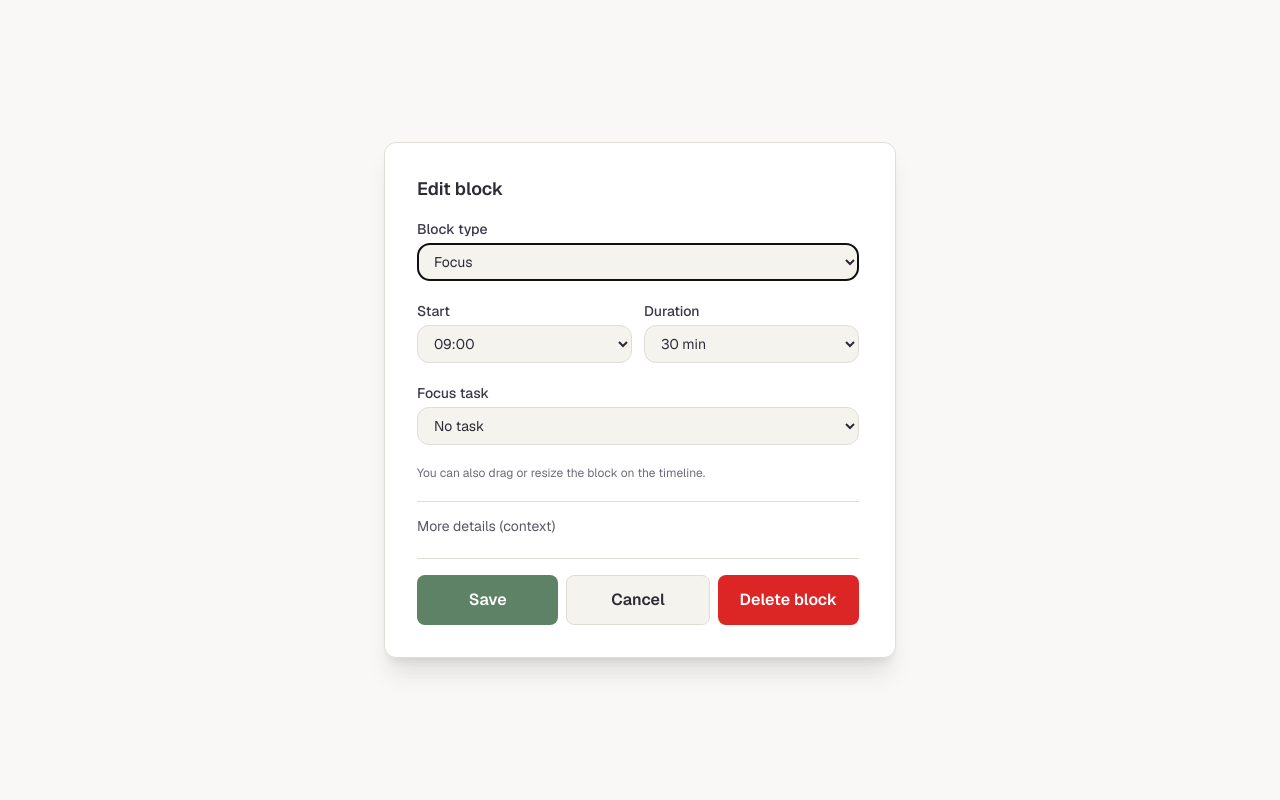
Test case: ScheduleBlockEditPanel › creates and selects a reusable custom context
Click the button with test id "schedule-edit-more-toggle": (486, 526) [417,516,555,536]
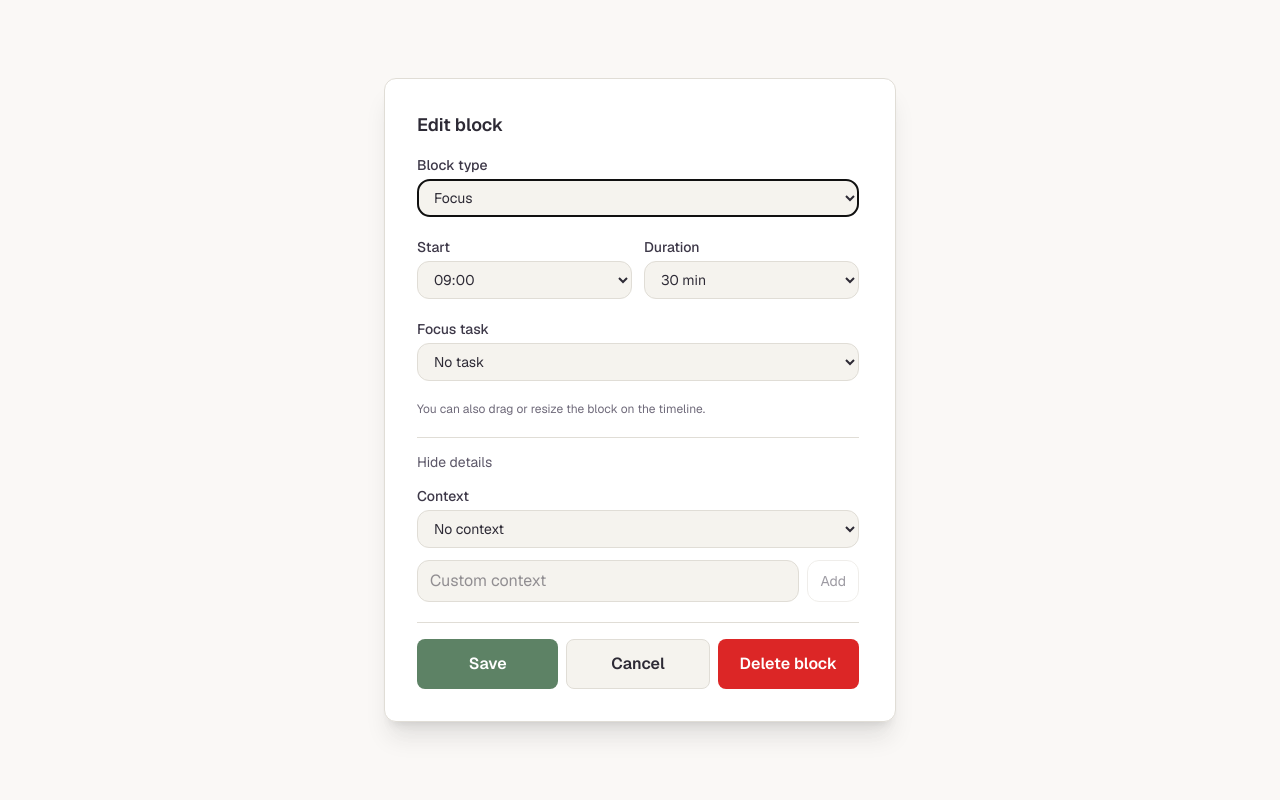
In the field with test id "schedule-new-context-tag": (608, 581) [417,560,799,602], type "Home"
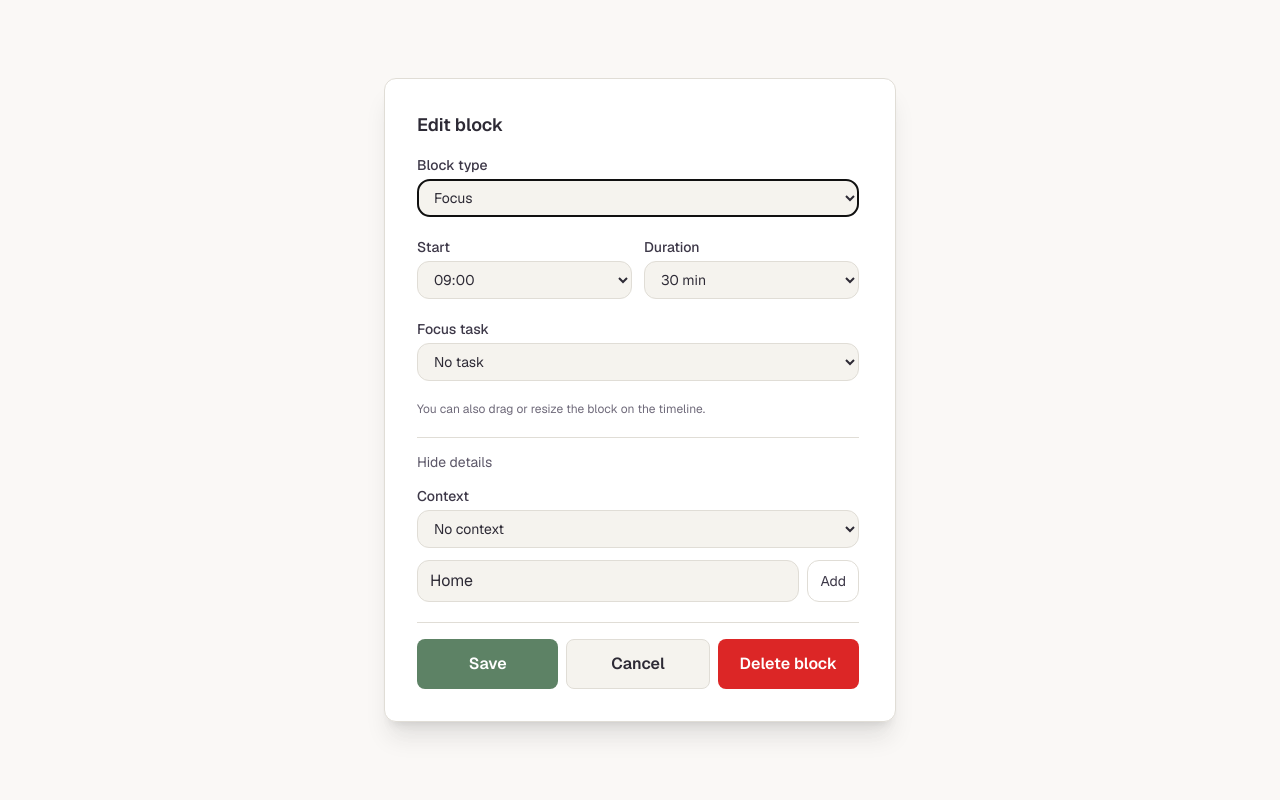
Click the button with test id "schedule-create-context-tag": (833, 581) [807,560,859,602]
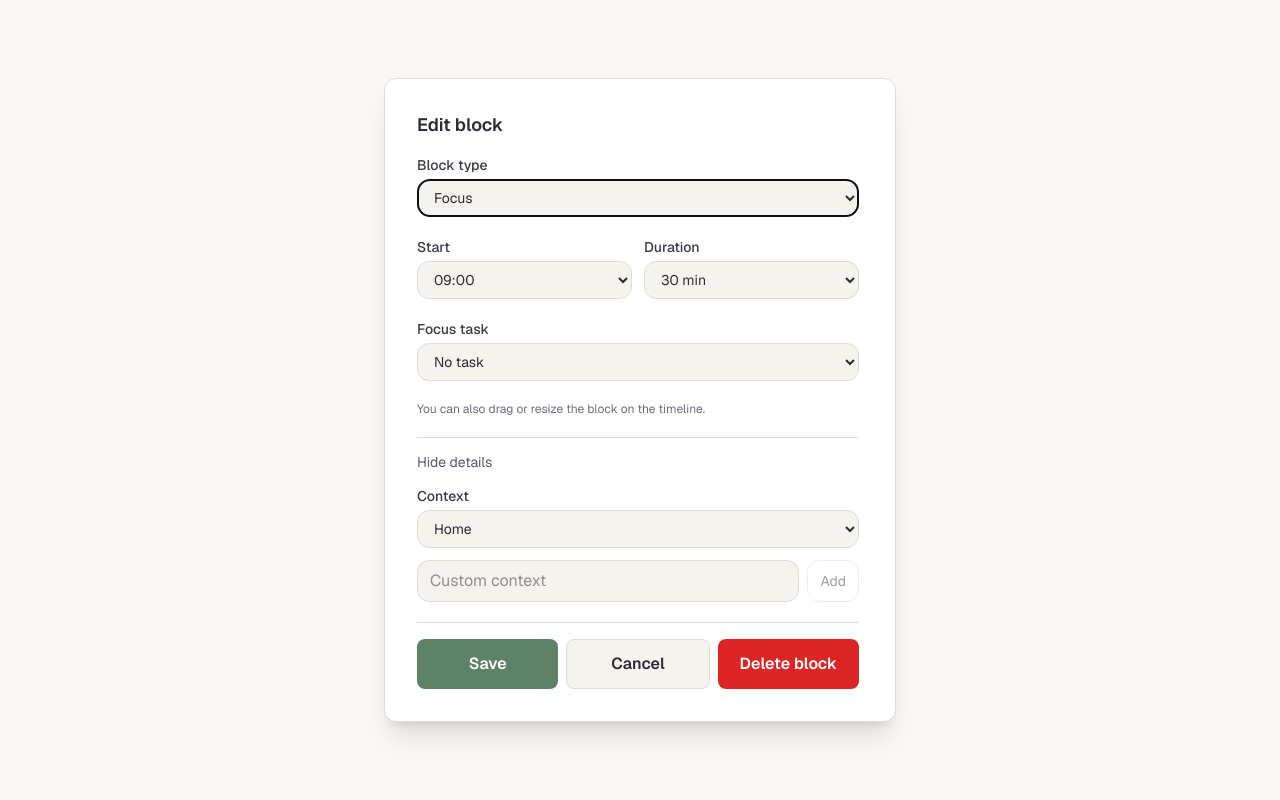
Expected: the dropdown with test id "schedule-context" shows "Home", [417,510,859,548]
